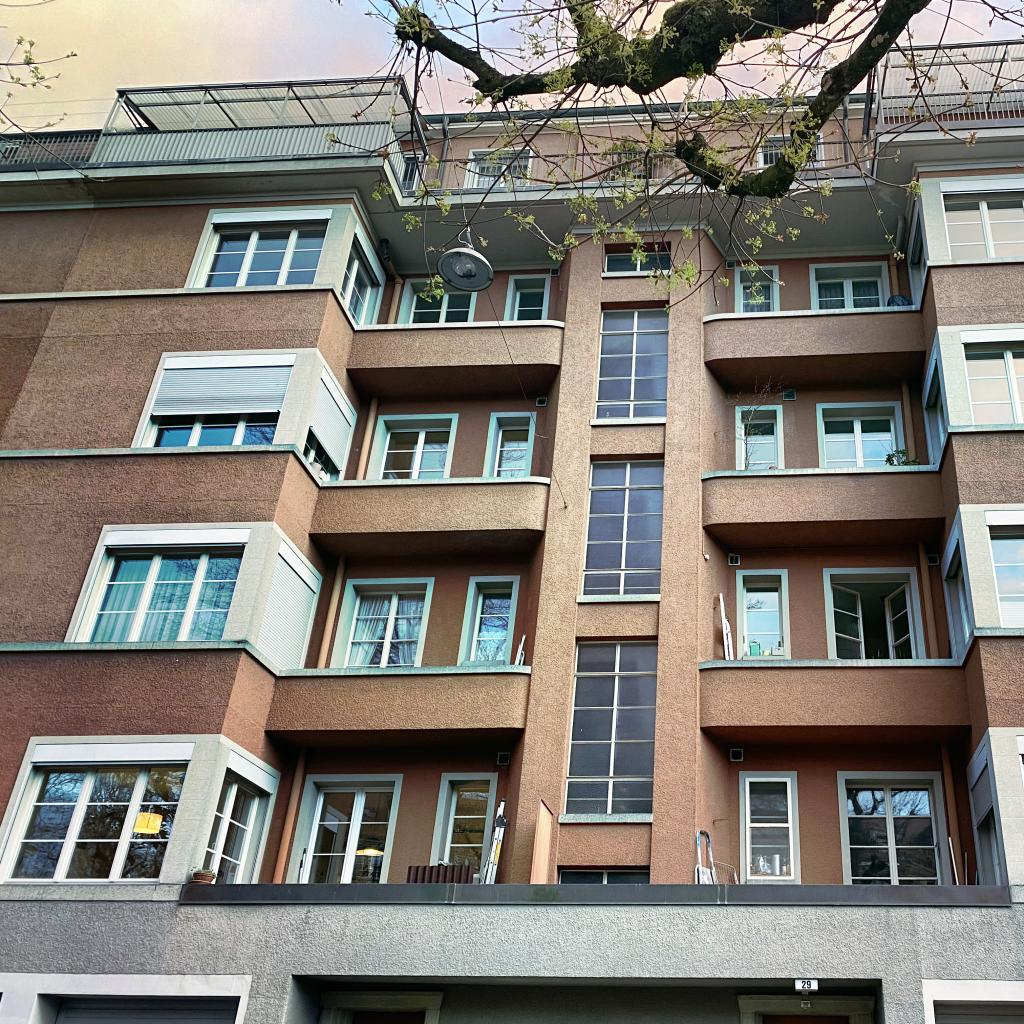balcony-fence: (0, 86, 1024, 198)
facade: (0, 36, 1024, 911)
traffic-infrastructure: (435, 113, 569, 510)
vegetation: (321, 0, 1024, 319)
window: (0, 762, 190, 886), (563, 633, 659, 814), (72, 543, 247, 642), (137, 362, 294, 449), (580, 453, 665, 595), (843, 776, 946, 885), (296, 781, 396, 884), (190, 219, 329, 288), (593, 300, 672, 419), (197, 765, 271, 885), (828, 571, 921, 660), (335, 583, 428, 667), (256, 549, 317, 669), (434, 778, 493, 884), (743, 775, 798, 884), (942, 186, 1024, 259), (301, 375, 353, 483), (961, 337, 1024, 426), (372, 417, 454, 481), (821, 405, 901, 468), (462, 580, 516, 666), (969, 760, 1006, 884), (739, 573, 788, 660), (985, 521, 1024, 629), (339, 232, 381, 326), (944, 538, 974, 661), (813, 263, 890, 309), (404, 282, 473, 323), (923, 358, 948, 466), (601, 241, 672, 278), (488, 416, 531, 477), (740, 408, 780, 470), (470, 151, 530, 188), (759, 135, 821, 170), (556, 865, 652, 885), (509, 277, 547, 321), (739, 269, 776, 313), (909, 214, 927, 304)
